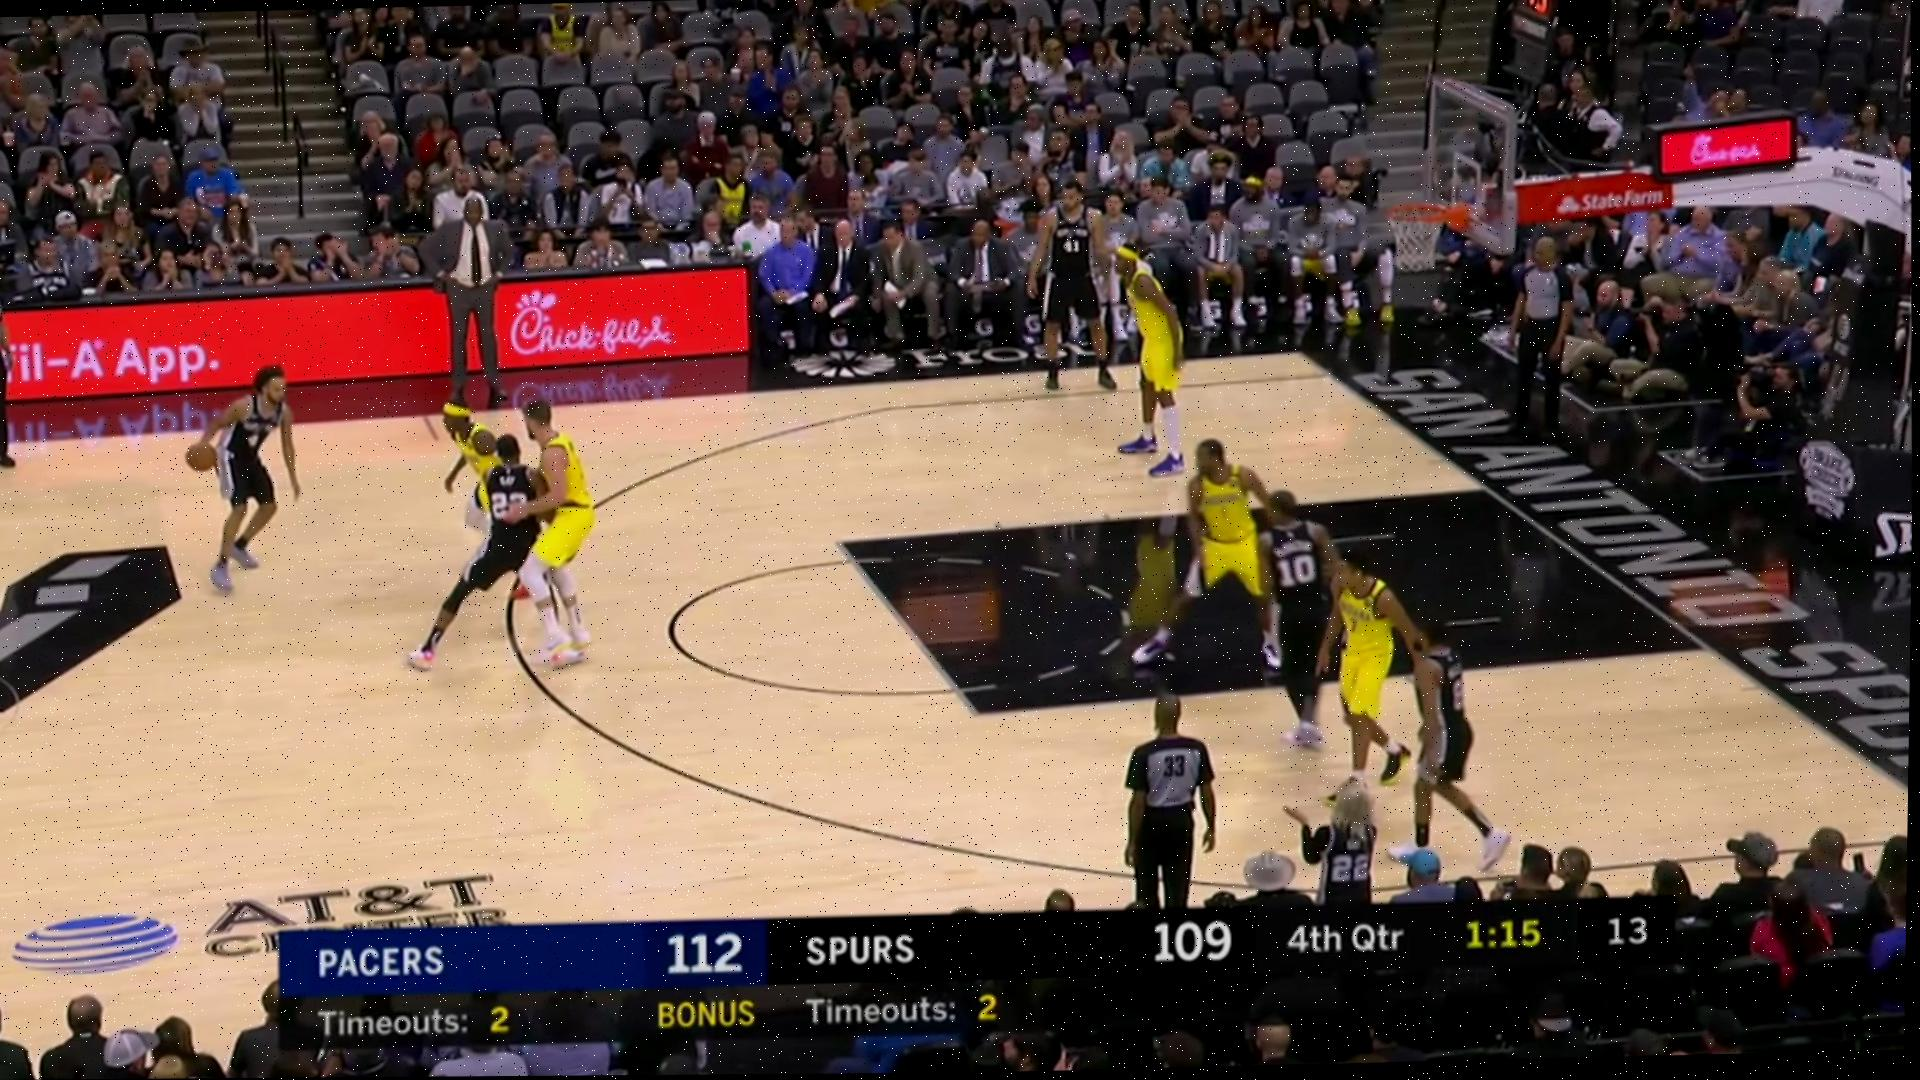no_foul: (468, 389, 620, 670)
